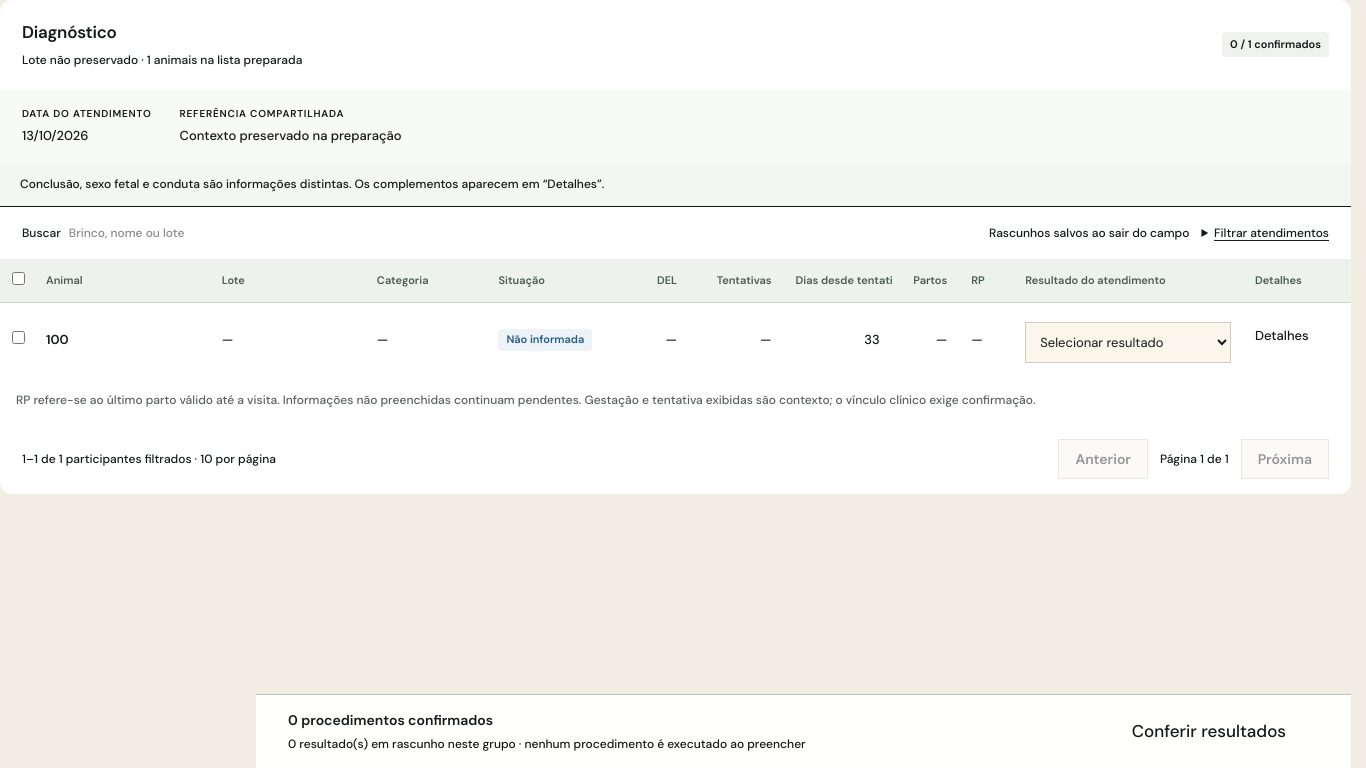
Test: linha intocada permanece pendente e resultado não assume atendimento ou vínculo
Expected: the dropdown named "Resultado · 100" shows "Selecionar resultado", [1025,322,1231,363]
Expected: the button with aria-label "Conferir resultados (0)" is disabled, [1132,719,1286,744]
Click the checkbox named "Selecionar 100".
click(18, 338)  # box [12,331,25,344]
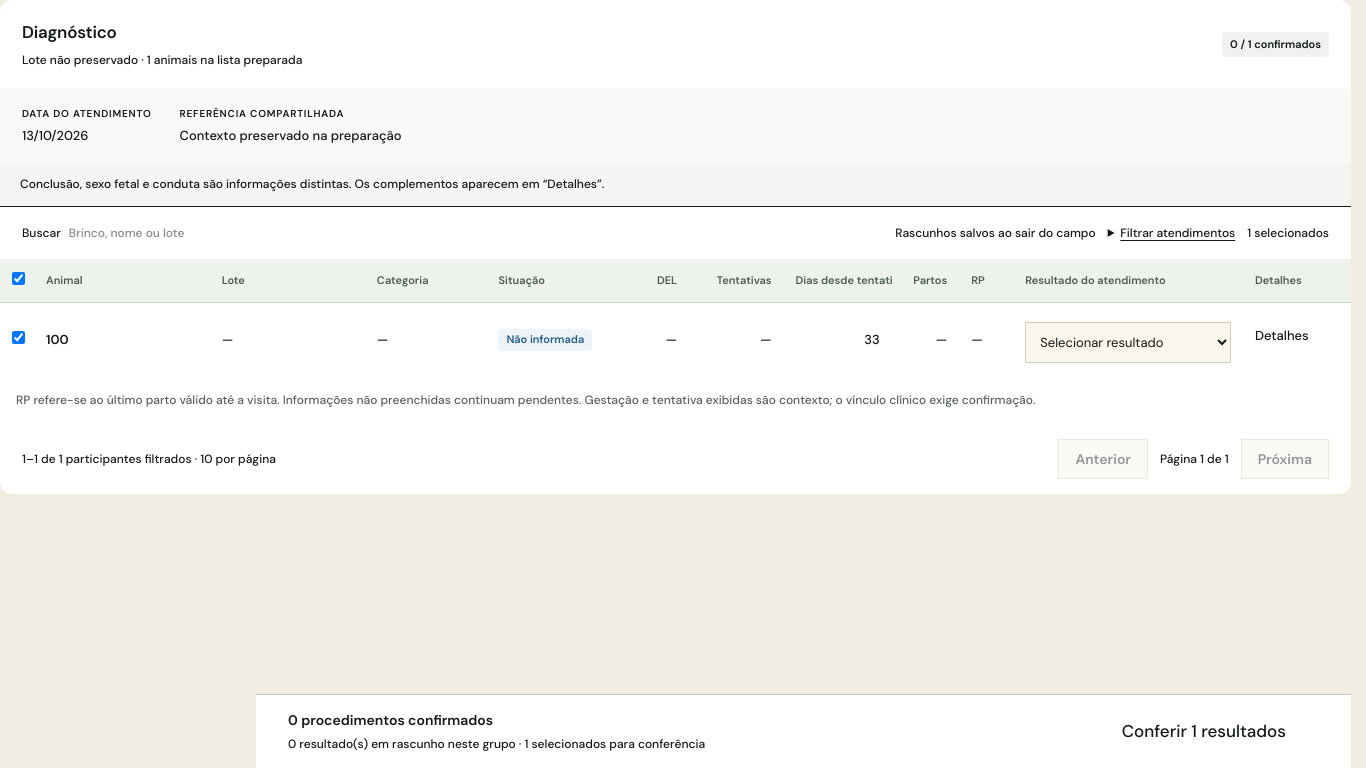
Click the button with aria-label "Revisar selecionados (1)".
click(1204, 732)  # box [1122,719,1286,744]
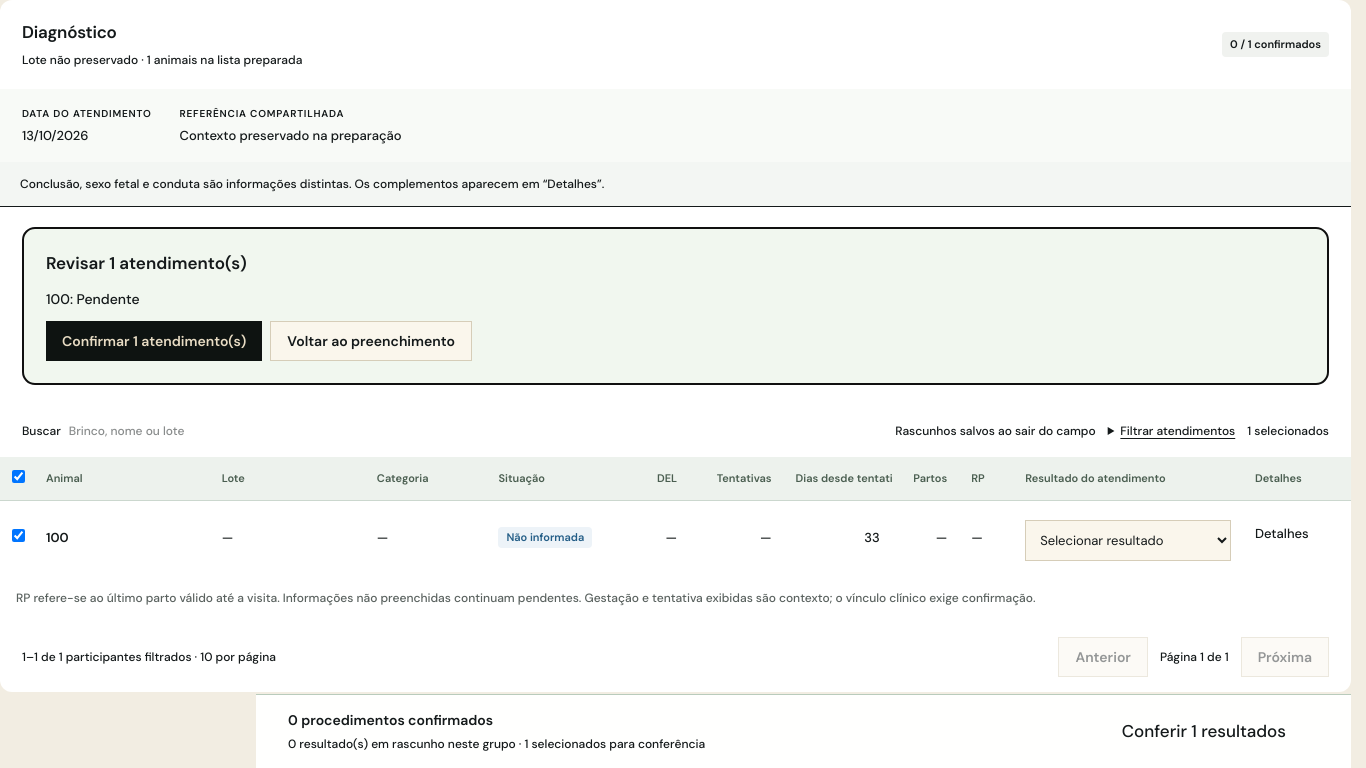
Click the button "Confirmar 1 atendimento(s)".
click(154, 340)  # box [46,320,262,360]
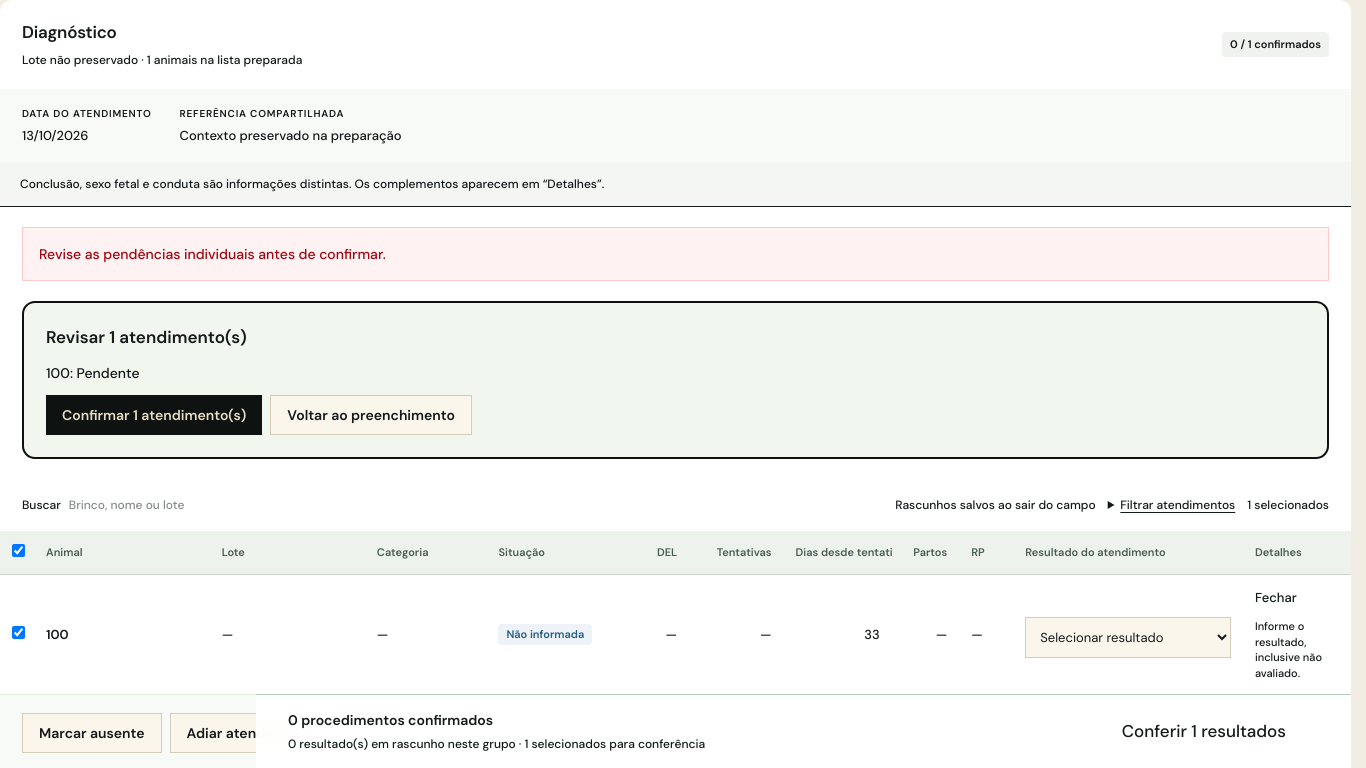
Expected: the text "Revise as pendências individuais antes de confirmar." is shown, [22,227,1329,281]
Select "Prenhez confirmada" in the dropdown named "Resultado · 100" at (1128, 637), box [1025,617,1231,658]
(page scrolled)
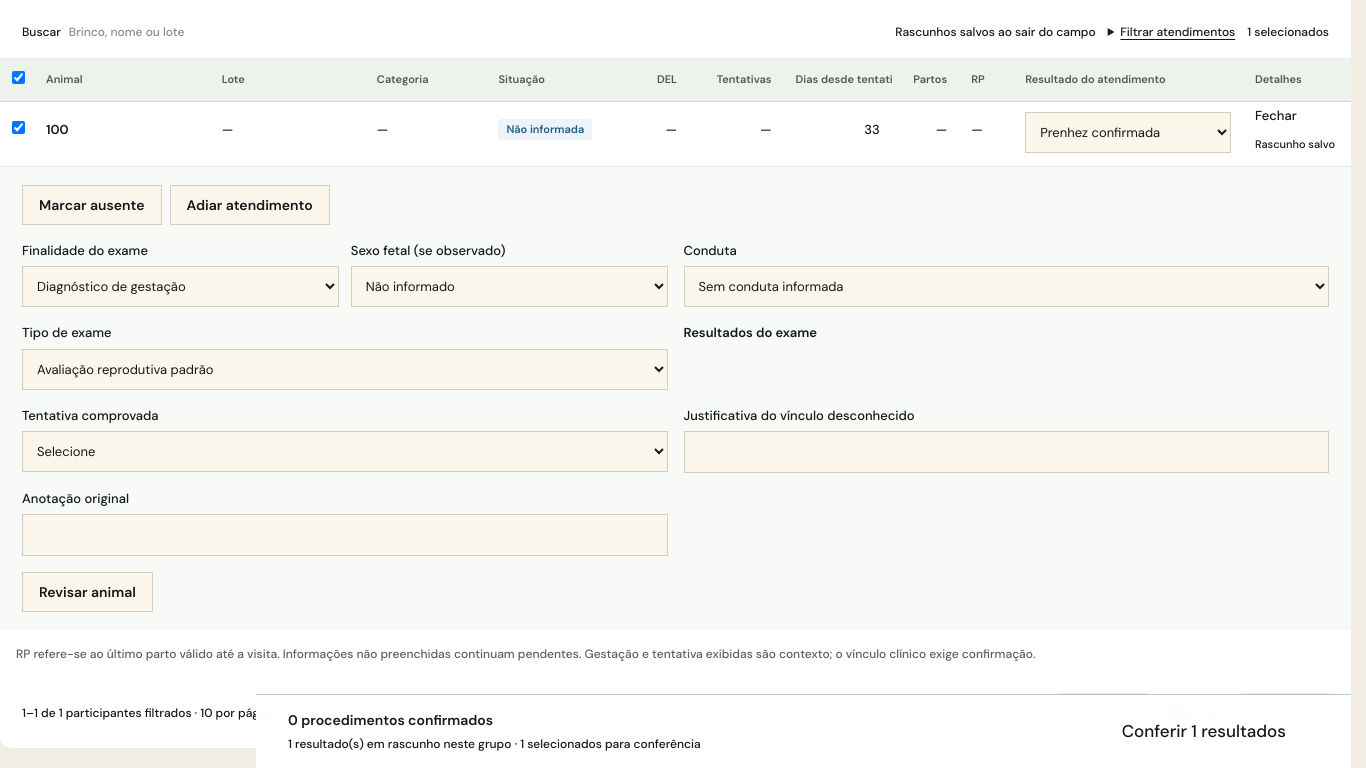
Expected: the field named "Motivo da tentativa não comprovada · 100" is shown, [684,431,1329,473]
